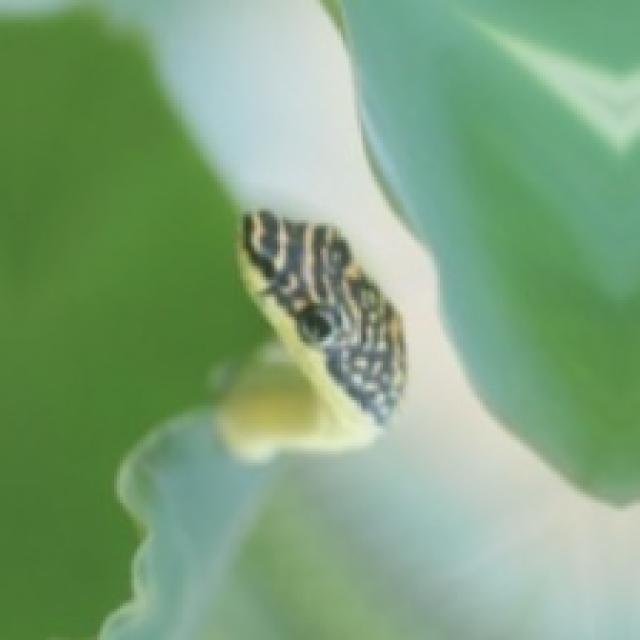paradise tree snake: (239, 210, 406, 449)
